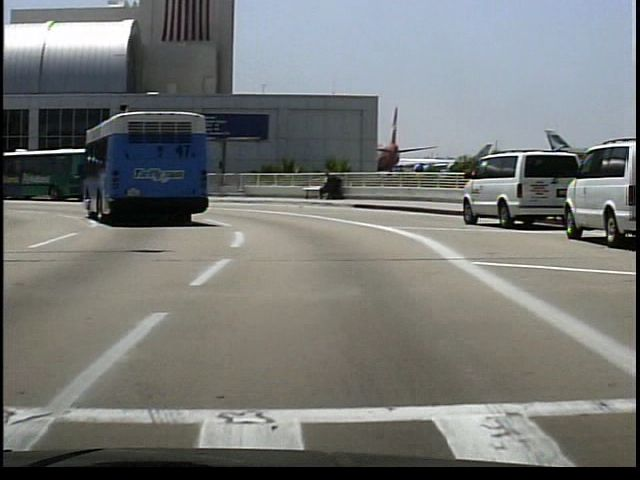car: (91, 100, 224, 231), (460, 150, 564, 231), (568, 140, 640, 242)
striscie pedonali: (4, 413, 640, 466)
